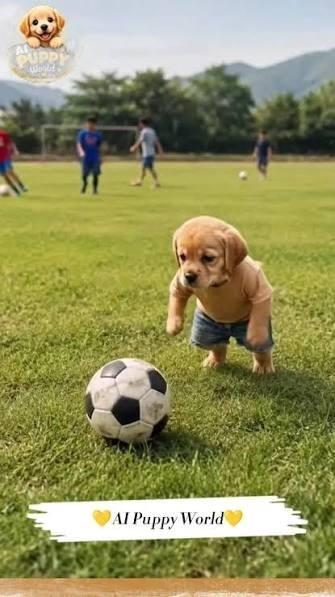non-dog: (84, 357, 174, 446), (127, 116, 165, 188), (75, 114, 104, 196), (0, 120, 30, 198), (252, 132, 274, 181), (237, 169, 250, 182)
puppy-dog: (165, 214, 277, 376), (18, 4, 66, 51)
